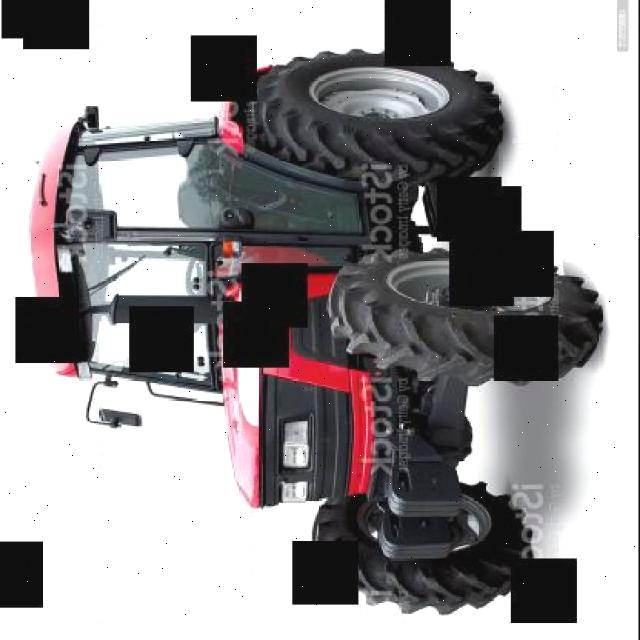Tratores - v5 YOLO V8L 2024-11-13: (14, 38, 638, 640)
